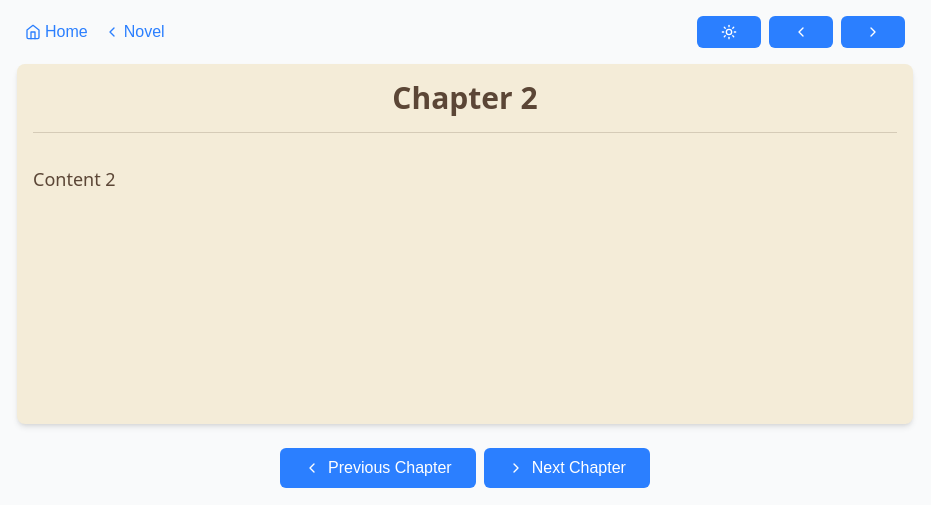
Test: ChapterPage › loads next chapter when clicking next button
This screenshot has width=931, height=505.
Expected: the heading "Chapter 2" is shown, [33,80,897,133]
Click the button "Next Chapter".
click(567, 468)  # box [484,448,650,488]
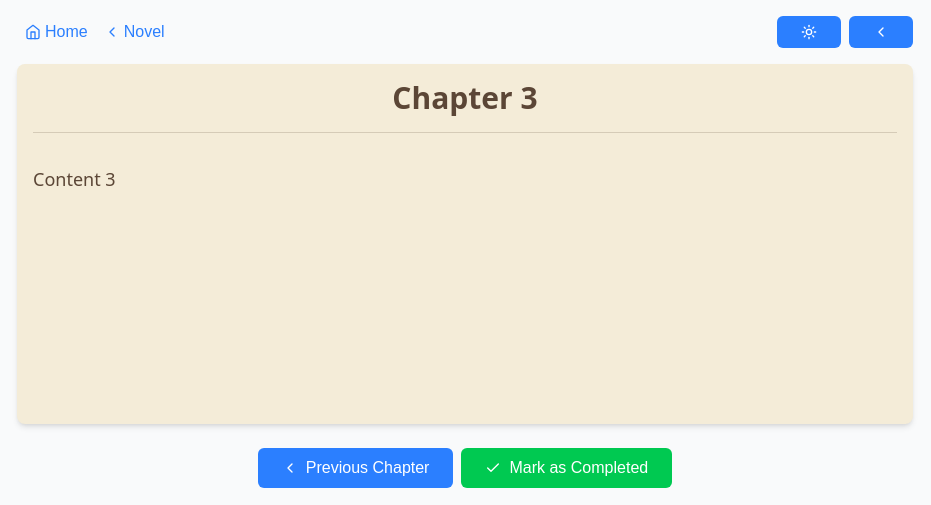
Now the heading "Chapter 3" is shown, box [33,80,897,133]
